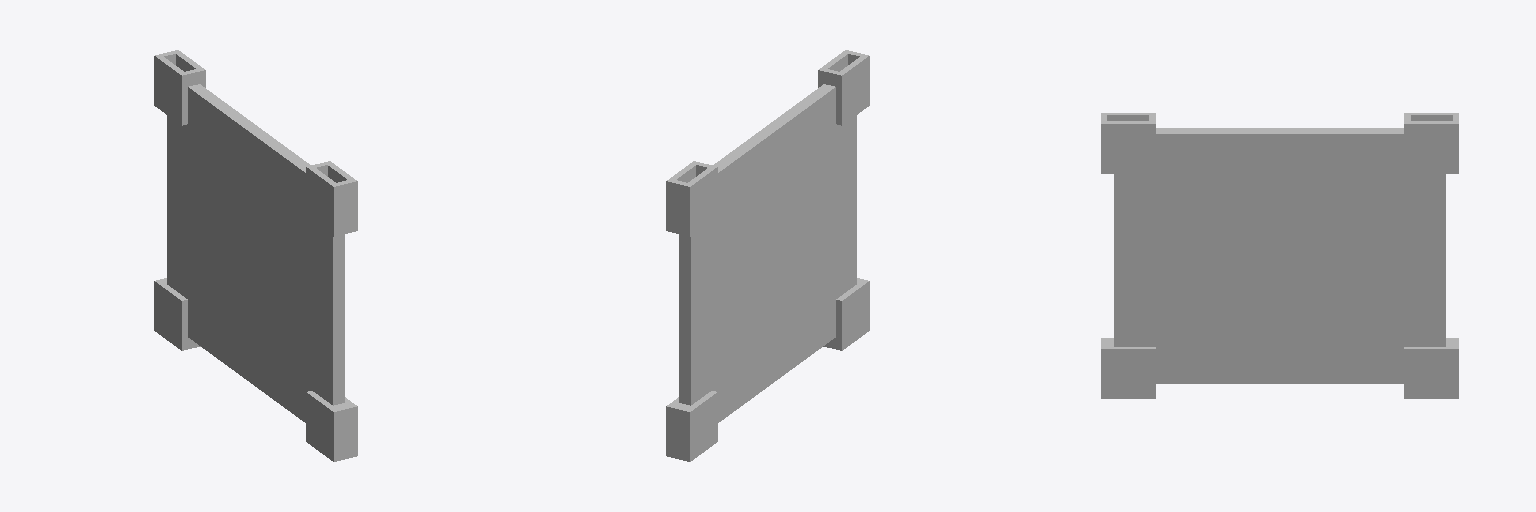
File: floating sign 2.obj
The picture shows the model from 3 angles: view 1: azimuth 30°, elevation 25°; view 2: azimuth 150°, elevation 25°; view 3: azimuth 270°, elevation 25°; orthographic projection.
Size of the model in its own units: 4 by 44 by 52.